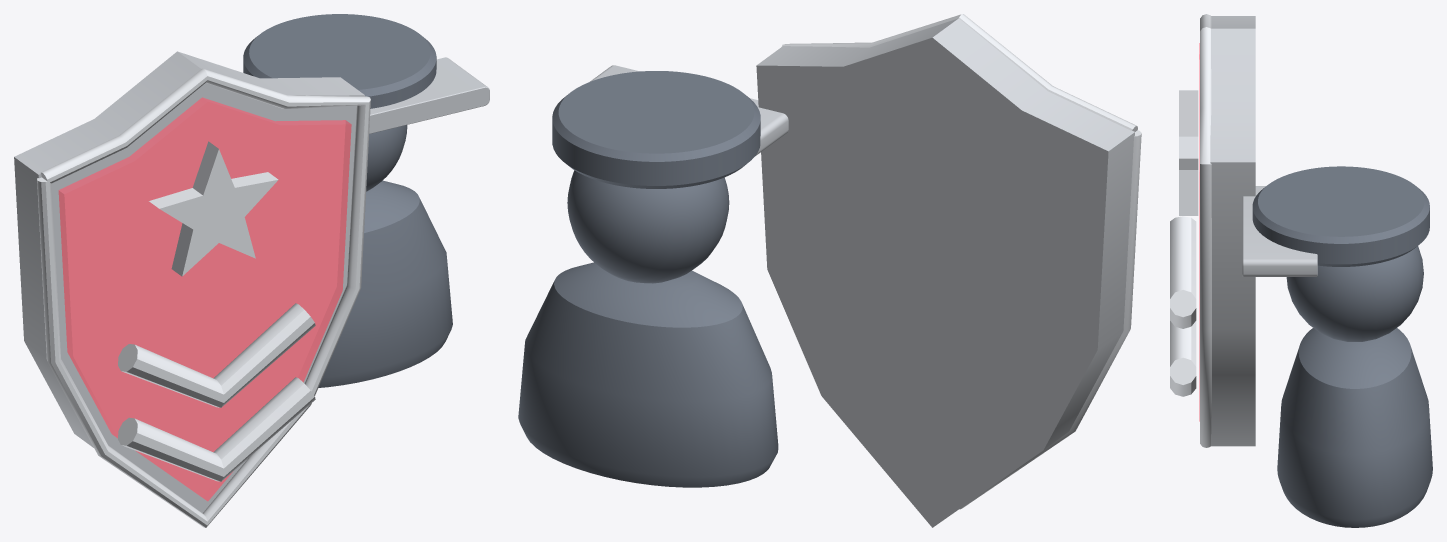
File: 48-veteran-services.glb
3 views of the same model, side by side, from view 1: azimuth 30°, elevation 25°; view 2: azimuth 150°, elevation 25°; view 3: azimuth 270°, elevation 25° (orthographic). The views are drawn at different scales.
Parts seen in each view (by area): view 1: BC satin silver metal, BC ruby optical glass, BC polished silver metal, BC dark brushed metal; view 2: BC satin silver metal, BC dark brushed metal, BC polished silver metal; view 3: BC dark brushed metal, BC satin silver metal, BC polished silver metal, BC ruby optical glass.
Part boxes in pixels (<box>): BC satin silver metal: <box>14,51,489,513</box>; BC ruby optical glass: <box>58,97,351,501</box>; BC polished silver metal: <box>37,68,370,527</box>; BC dark brushed metal: <box>243,14,452,387</box>; BC satin silver metal: <box>590,18,1134,527</box>; BC dark brushed metal: <box>518,71,778,487</box>; BC polished silver metal: <box>781,14,1141,509</box>; BC dark brushed metal: <box>1252,166,1432,527</box>; BC satin silver metal: <box>1210,16,1317,446</box>; BC polished silver metal: <box>1170,14,1211,447</box>; BC ruby optical glass: <box>1199,43,1199,421</box>.
Bounding box in the file's own units: 1.87 × 1.68 × 0.9484.
